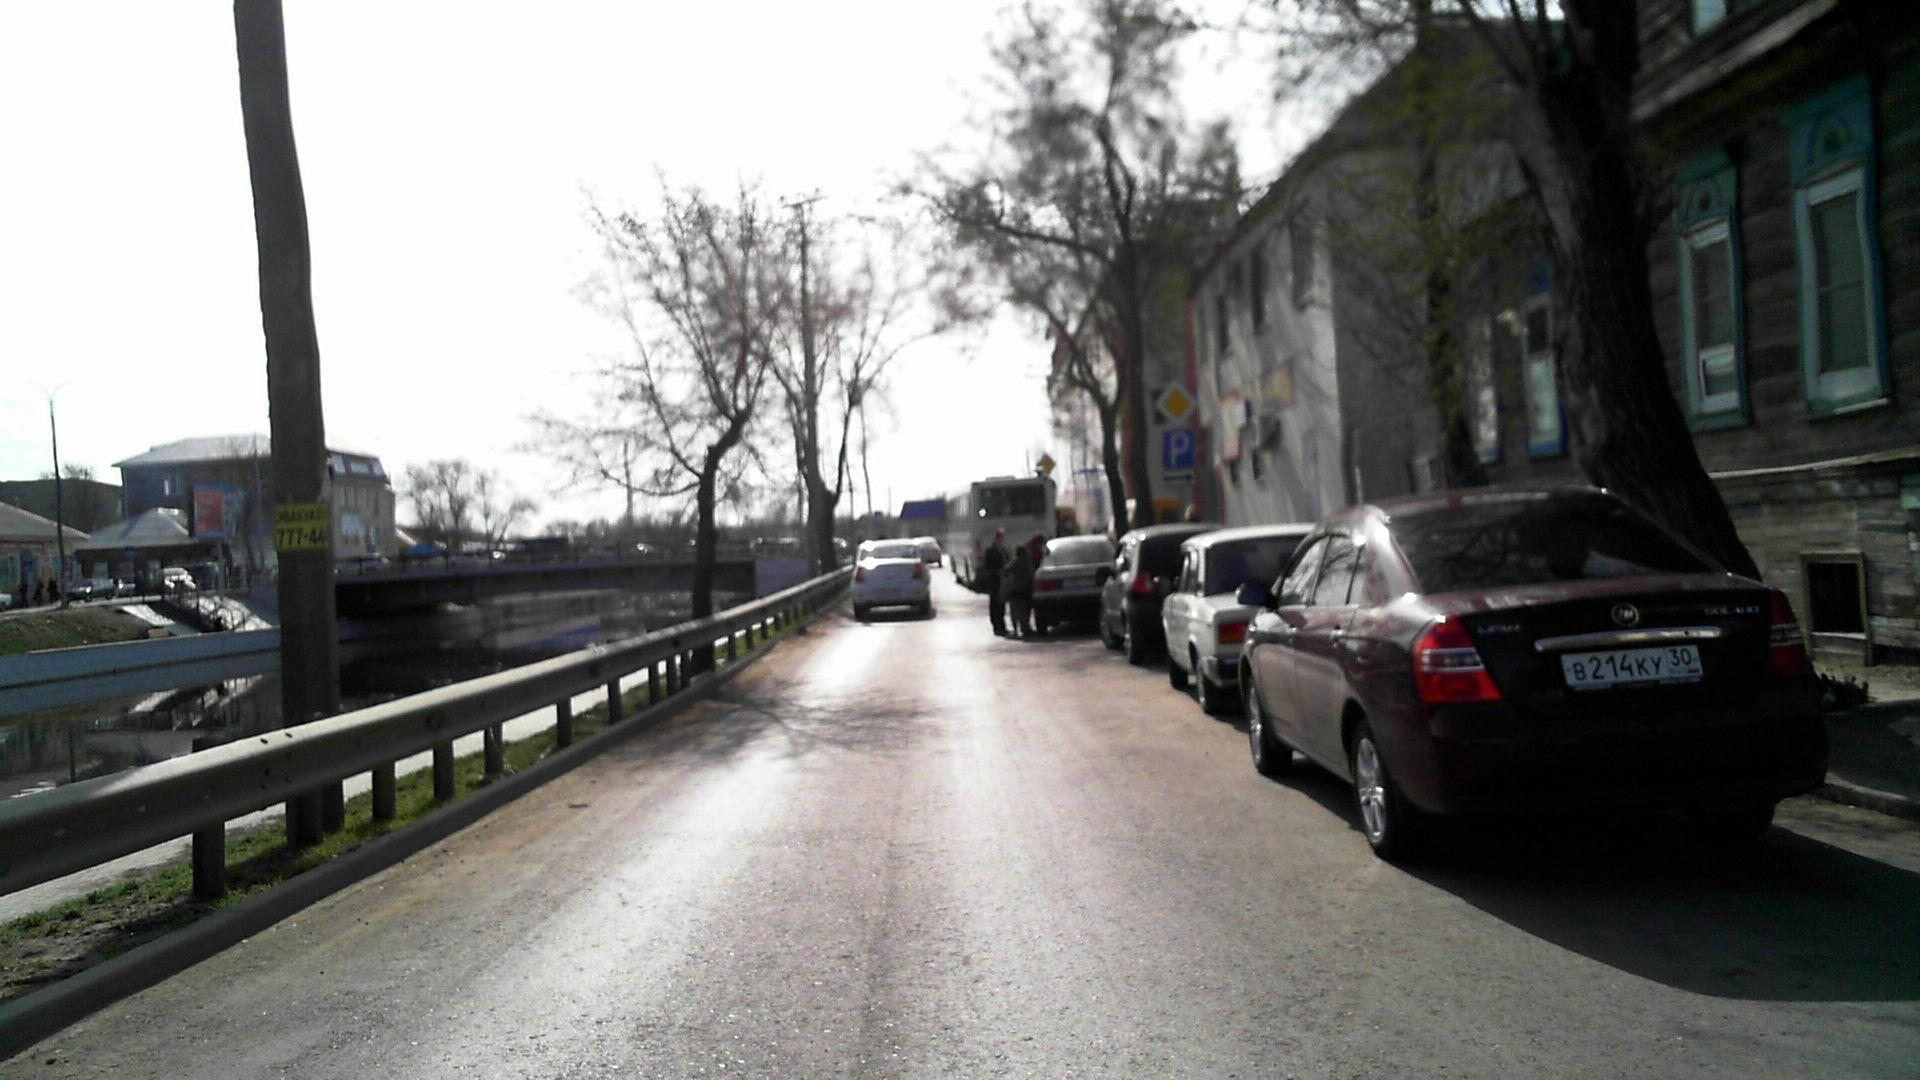2_1: (1155, 378, 1199, 423), (1040, 454, 1056, 472)
6_4: (1162, 427, 1195, 467)
8_3_1: (1163, 468, 1193, 485)
